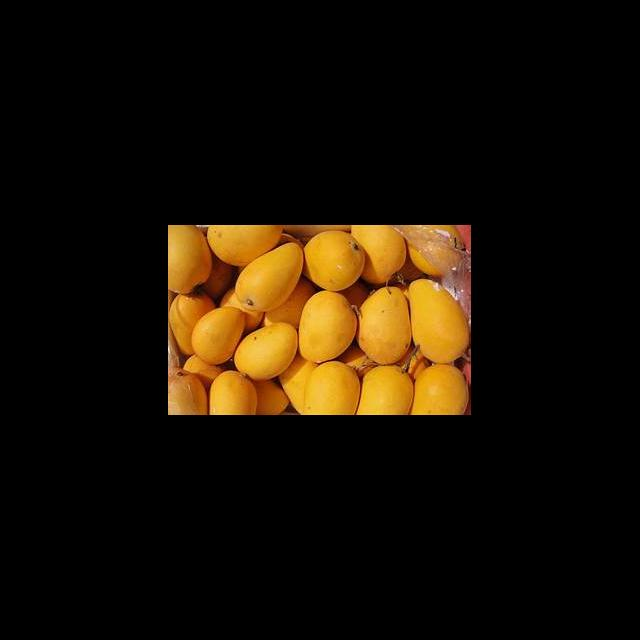mango: (228, 244, 309, 313), (412, 281, 472, 361), (229, 316, 301, 377), (300, 290, 358, 361), (361, 288, 412, 364), (308, 233, 368, 287), (410, 366, 472, 415), (192, 304, 238, 364), (307, 363, 356, 415), (365, 362, 409, 415)
